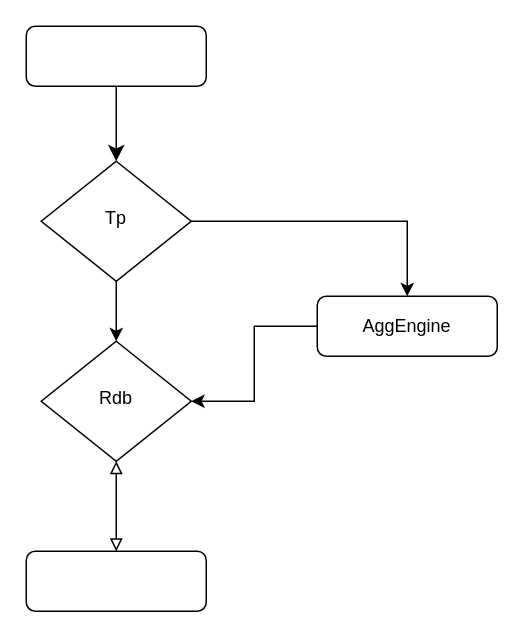
The diagram is 524 pixels wide and 638 high, and some of its shapes have lost their labels. Each missing label, with the centre of its shape:
Feed: [115,55]
Monitoring: [115,580]
